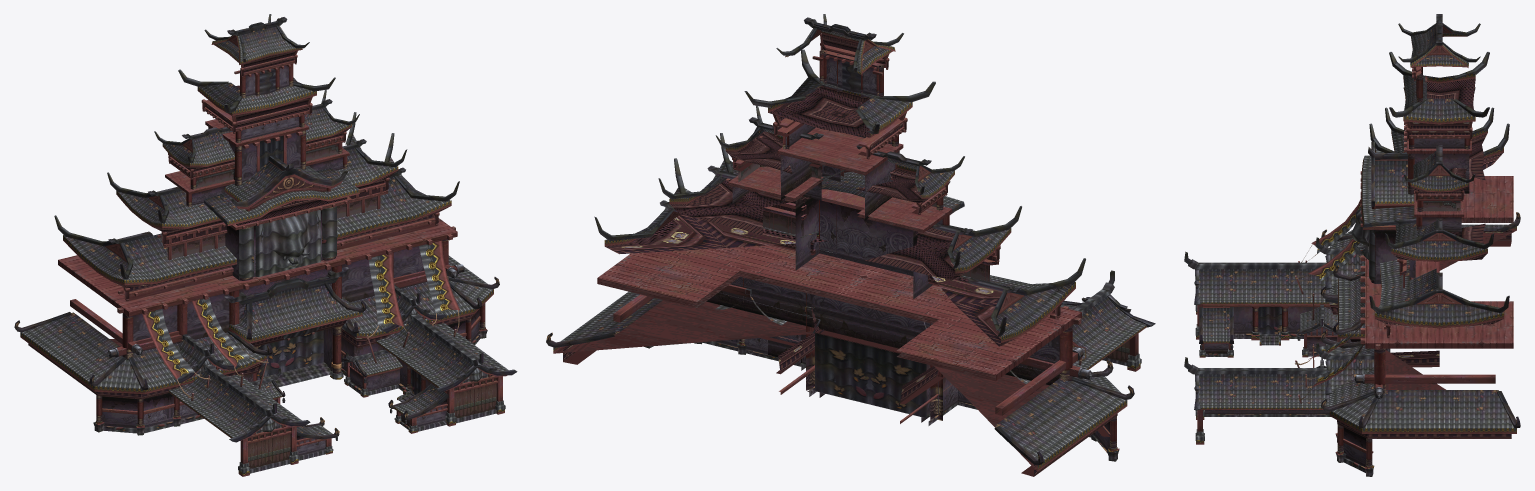
Rendered from MainShrine.FBX.
The picture shows the model from 3 angles, left to right: view 1: azimuth 30°, elevation 25°; view 2: azimuth 150°, elevation 25°; view 3: azimuth 270°, elevation 25°; orthographic projection. The views are drawn at different scales.
Visible parts, largest first — view 1: MainShrine_1; view 2: MainShrine_1; view 3: MainShrine_1.
Part boxes in pixels (left/top/right/bottom): MainShrine_1: left=14, top=14, right=517, bottom=476; MainShrine_1: left=546, top=14, right=1155, bottom=476; MainShrine_1: left=1184, top=14, right=1520, bottom=476.
Bounding box in the file's own units: 1972 × 1542 × 1342.
